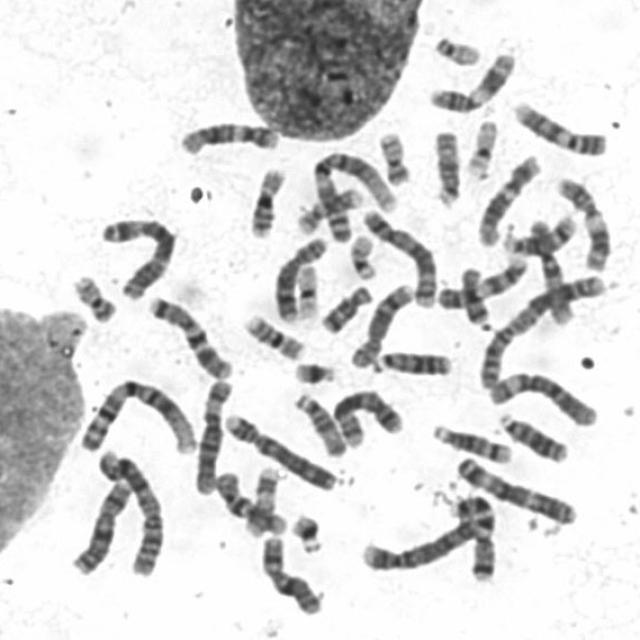A1: (74, 373, 199, 455), (306, 144, 401, 243)
A2: (474, 267, 610, 392), (94, 444, 168, 578)
A3: (450, 450, 579, 526), (96, 210, 180, 301)
B4: (220, 408, 341, 493), (357, 512, 482, 573)
B5: (358, 204, 441, 310), (330, 384, 407, 450)
C10: (524, 212, 579, 327), (210, 465, 292, 536)
C11: (423, 46, 518, 115), (550, 170, 612, 273)
C12: (472, 148, 544, 248), (175, 115, 282, 156)
C6: (484, 365, 600, 429), (186, 373, 234, 497)
C7: (144, 290, 235, 380), (446, 489, 501, 584)
C8: (344, 277, 416, 371), (266, 230, 331, 324)
C9: (508, 95, 611, 157), (433, 249, 531, 311)
D13: (494, 407, 571, 464), (366, 344, 456, 378)
D14: (428, 418, 515, 465), (498, 209, 580, 256)
D15: (290, 387, 350, 459), (430, 124, 463, 208)
E16: (239, 308, 308, 362), (243, 160, 289, 240)
E17: (292, 183, 364, 234), (240, 460, 282, 538)
E18: (316, 278, 375, 336), (456, 262, 492, 328)
F19: (461, 113, 501, 178), (291, 259, 322, 321)
F20: (68, 268, 119, 324), (373, 125, 414, 186)
G21: (286, 507, 326, 555), (288, 355, 340, 386)
G22: (428, 30, 484, 67), (344, 228, 380, 282)
X: (66, 475, 135, 576), (255, 529, 328, 617)
